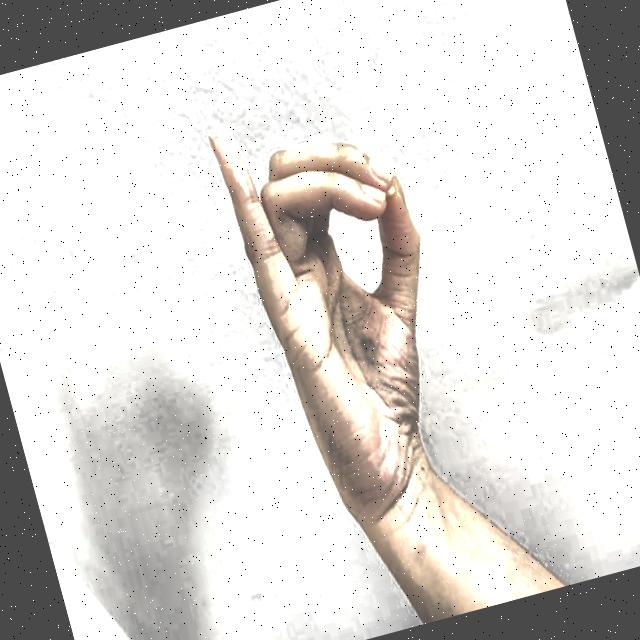Ou: (173, 48, 495, 540)
